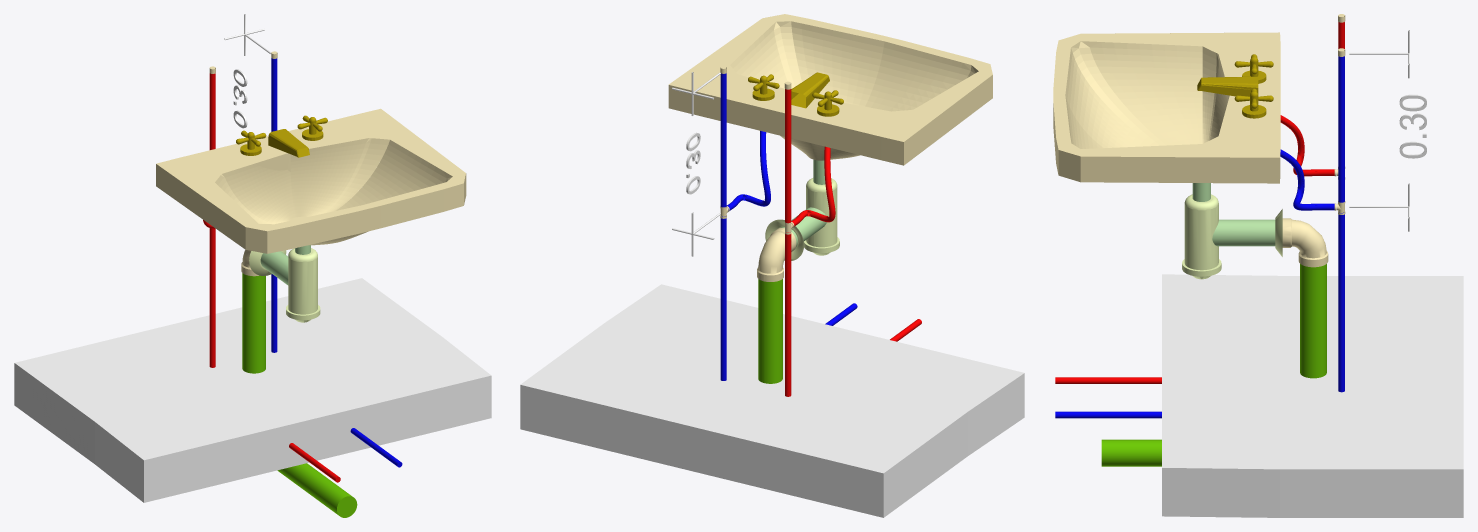
The model's file is lavamanos.glb.
3 renders of one model, left to right at view 1: azimuth 30°, elevation 25°; view 2: azimuth 150°, elevation 25°; view 3: azimuth 270°, elevation 25°, orthographic. The views are drawn at different scales.
Parts seen in each view (by area): view 1: Geom3D (×10); view 2: Geom3D (×14); view 3: Geom3D (×16).
Boxes of the visible parts, x1,y1,x2,y2 form: Geom3D (×10): (14,108,491,517); Geom3D (×14): (520,14,1024,517); Geom3D (×16): (1053,32,1463,517).
Bounding box in the file's own units: 0.086 × 0.0933 × 0.0765.
